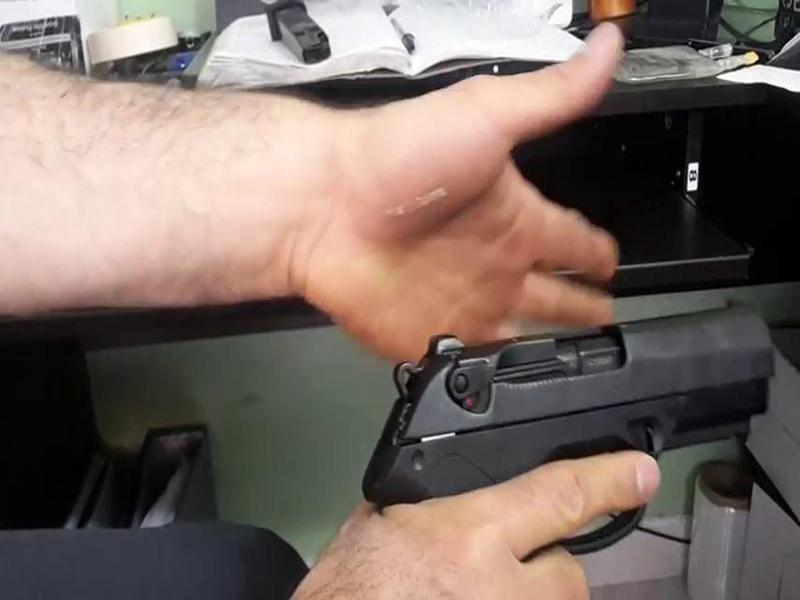Pistola: (350, 290, 800, 554)
